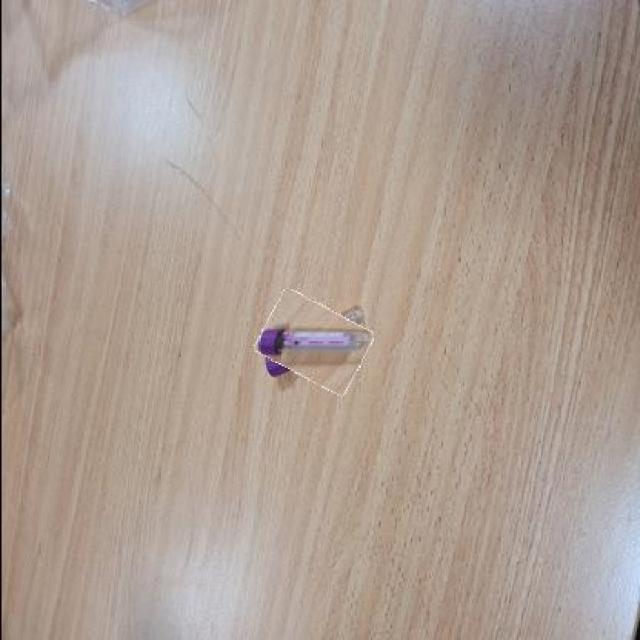Experimental-tube: (258, 297, 369, 386)
